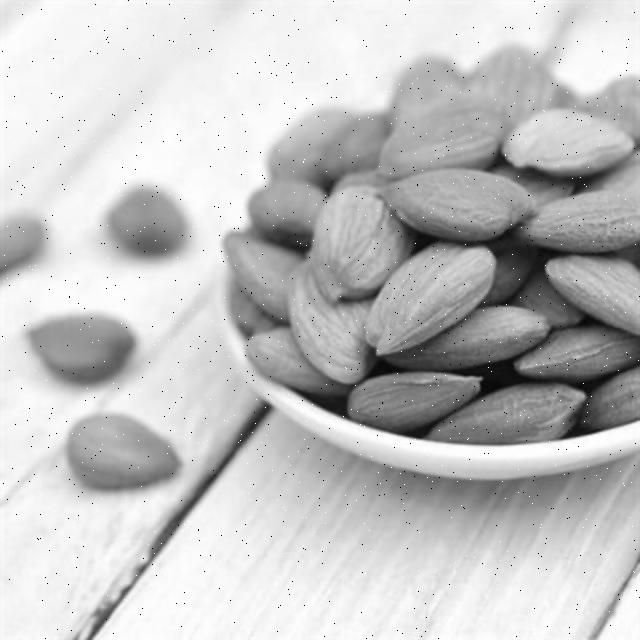Kayisi Cekirdegi: (369, 237, 495, 347), (305, 182, 423, 299), (375, 172, 538, 237), (425, 385, 585, 448), (356, 372, 480, 432), (70, 417, 180, 481), (35, 315, 136, 381), (109, 188, 186, 255)
